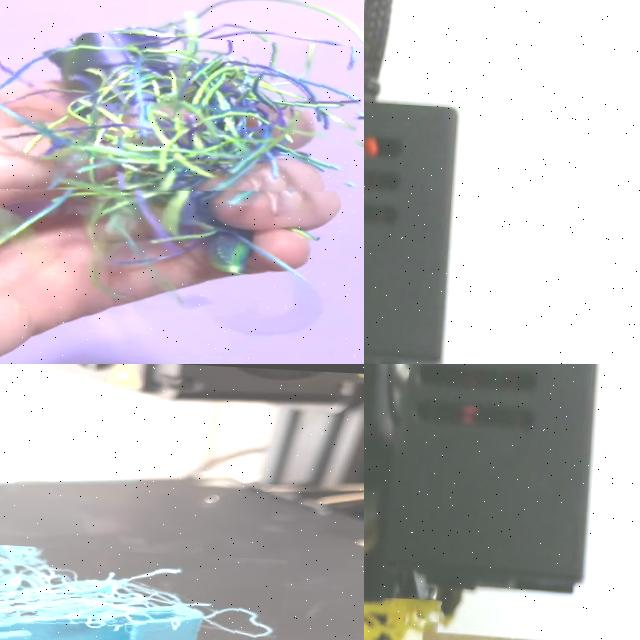spaghetti: (0, 28, 364, 209), (0, 545, 285, 640), (364, 598, 441, 640)
